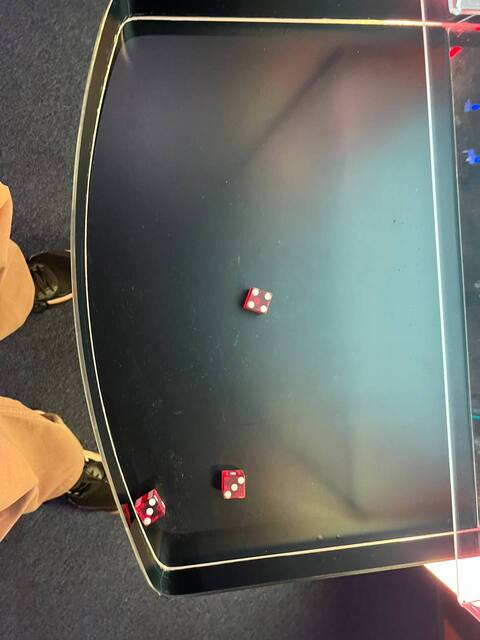four: (242, 283, 274, 316)
three: (133, 493, 165, 525), (218, 471, 248, 501)
